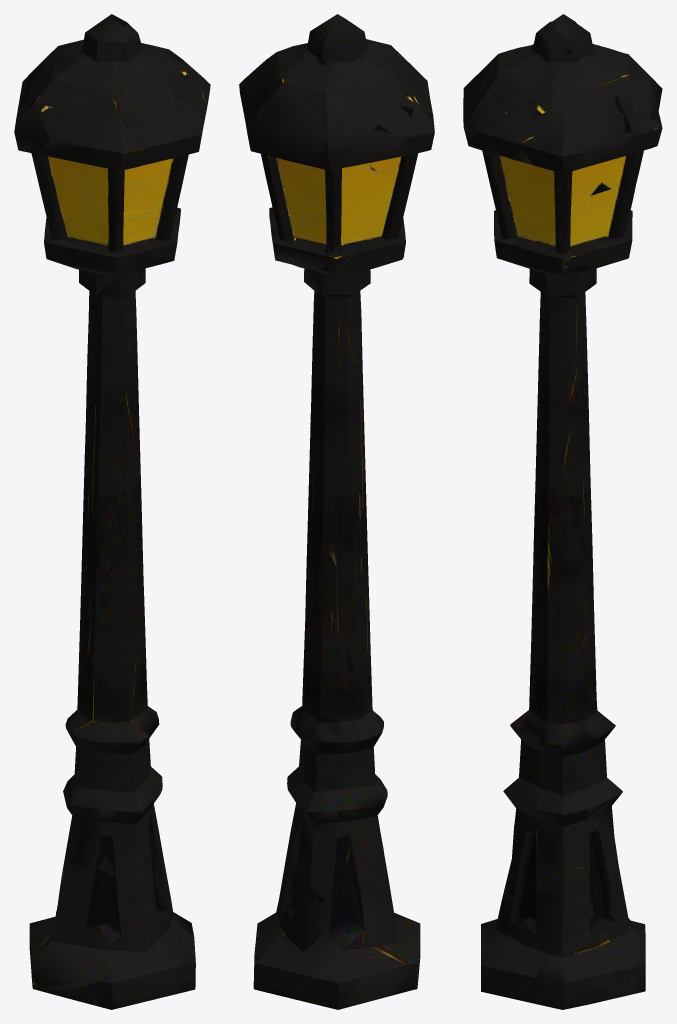
File: street-lamp.glb
The picture shows the model from 3 angles, left to right: view 1: azimuth 30°, elevation 25°; view 2: azimuth 150°, elevation 25°; view 3: azimuth 270°, elevation 25°; orthographic projection.
Visible parts, largest first — view 1: output_unwrapped; view 2: output_unwrapped; view 3: output_unwrapped.
Part boxes in pixels (bbox=[...]): output_unwrapped: bbox=[14, 14, 210, 1009]; output_unwrapped: bbox=[239, 14, 434, 1009]; output_unwrapped: bbox=[463, 14, 662, 1009].
Size of the model in its own units: 0.4083 by 1.9 by 0.3587.
Materials: 1 (1 with a texture image).
